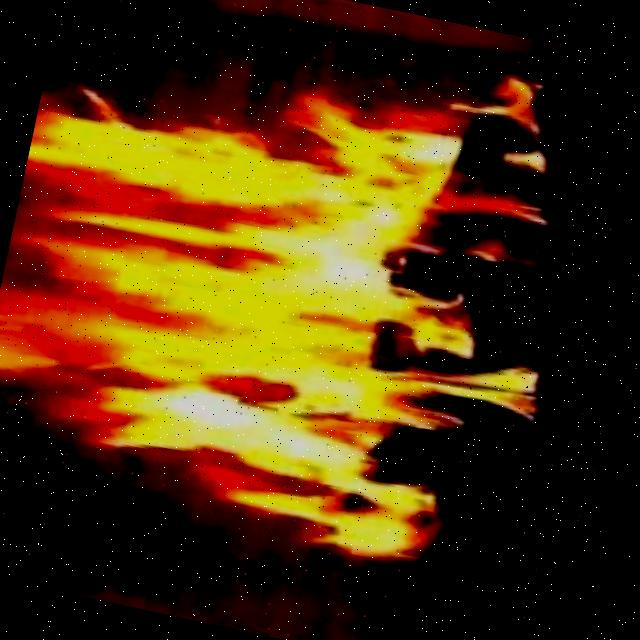fire: (0, 44, 521, 586)
